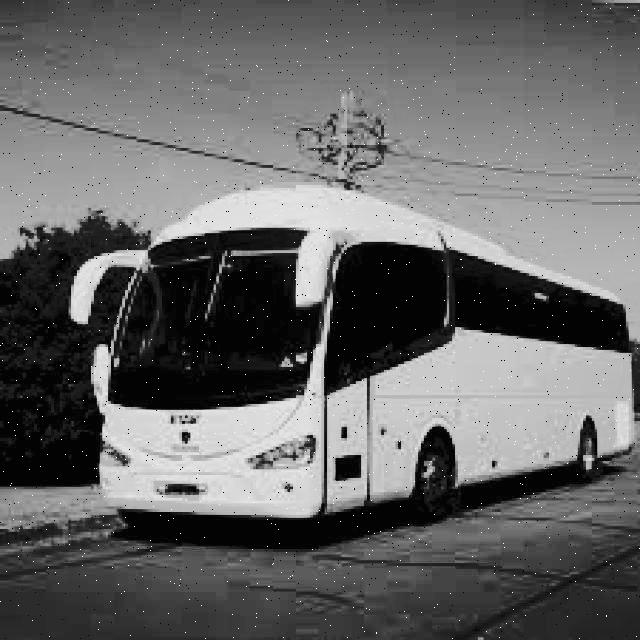Bus: (45, 156, 640, 534)
